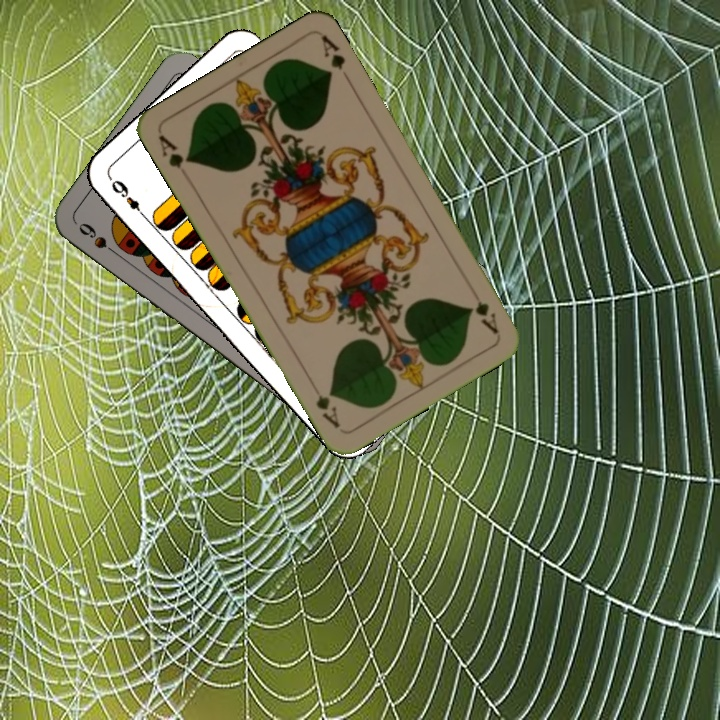E9: (107, 175, 150, 222)
GA: (467, 282, 501, 337), (154, 130, 195, 172)
S9: (74, 218, 125, 261)
